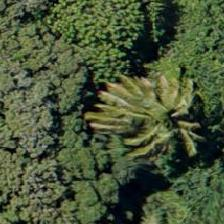Kelapa_Sawit: (110, 78, 200, 168)
